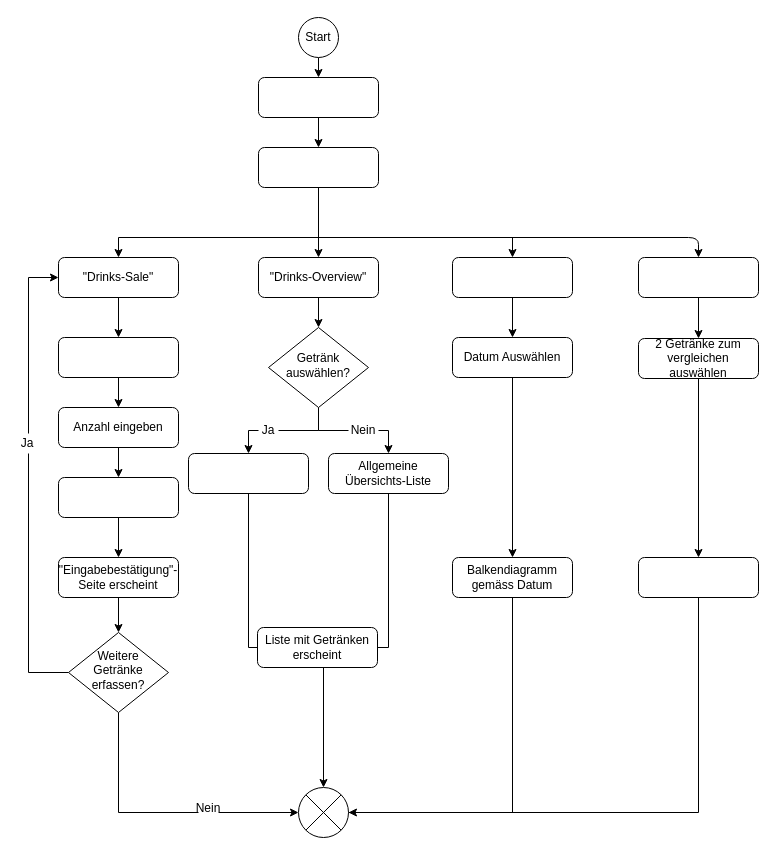
Some shapes in this 776 by 855 pixel diagram are drawn without their labels. Here are the shapes that lost their labels. From the top down, the box of each, then its label:
(258, 76, 378, 118): Seite aufrufen
(258, 146, 378, 188): Navigieren zu:
(452, 256, 572, 298): "Evaluation"
(638, 256, 758, 298): "Relation"
(58, 336, 178, 378): Getränk auswählen
(188, 452, 308, 494): Anzahl-Liste für ausgewähltes Getränk
(58, 476, 178, 518): Button "Bestätigen" anklicken
(638, 556, 758, 598): Linien Diagramm erscheint
